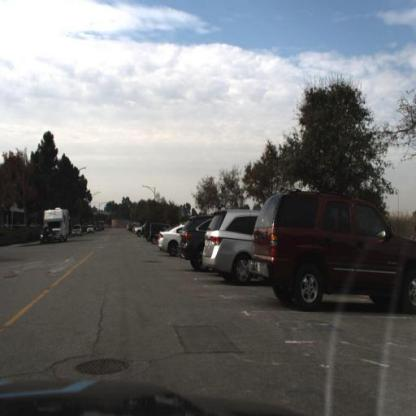car: (254, 184, 411, 317), (206, 208, 255, 285), (181, 212, 209, 272), (158, 224, 183, 259), (38, 224, 57, 248), (147, 221, 160, 248), (71, 222, 85, 239)
truck: (44, 208, 70, 243)
